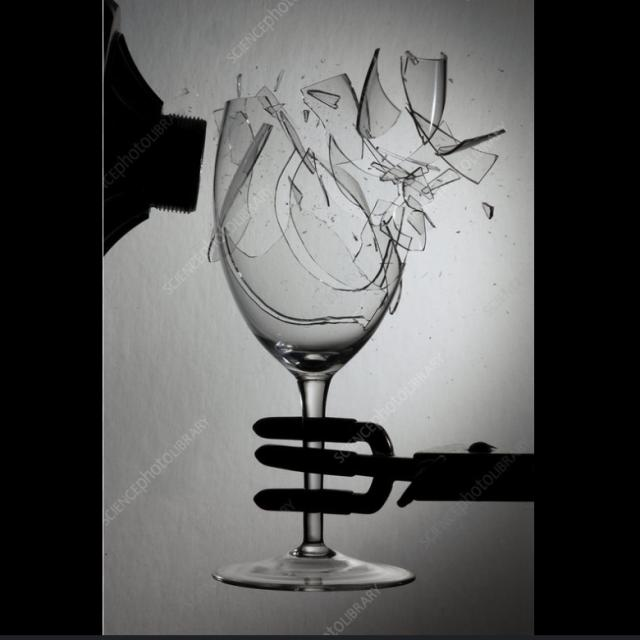PecahanKaca: (203, 45, 504, 592)
